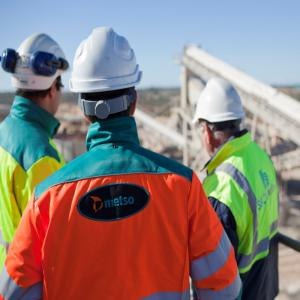white: (72, 28, 141, 122), (10, 33, 66, 114), (192, 78, 248, 155)
